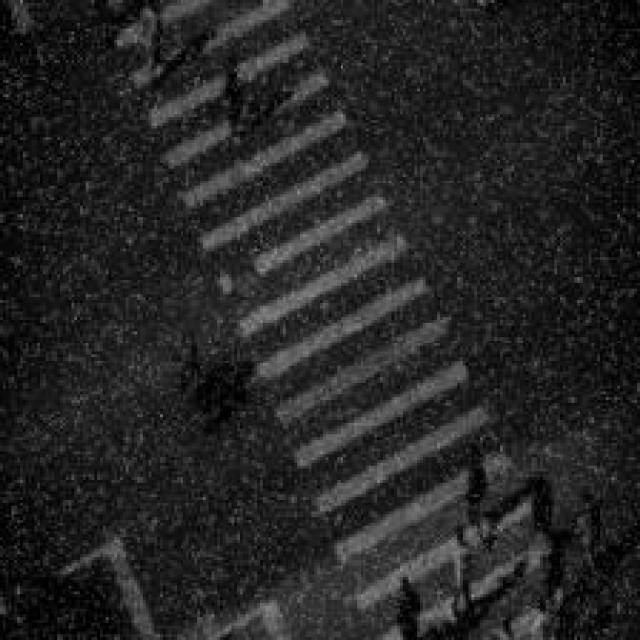crosswalk: (107, 4, 603, 640)
